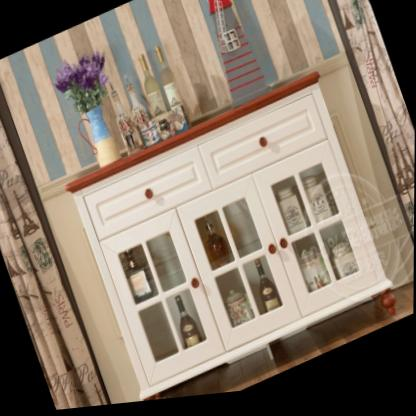Cupboard: (65, 79, 398, 404)
